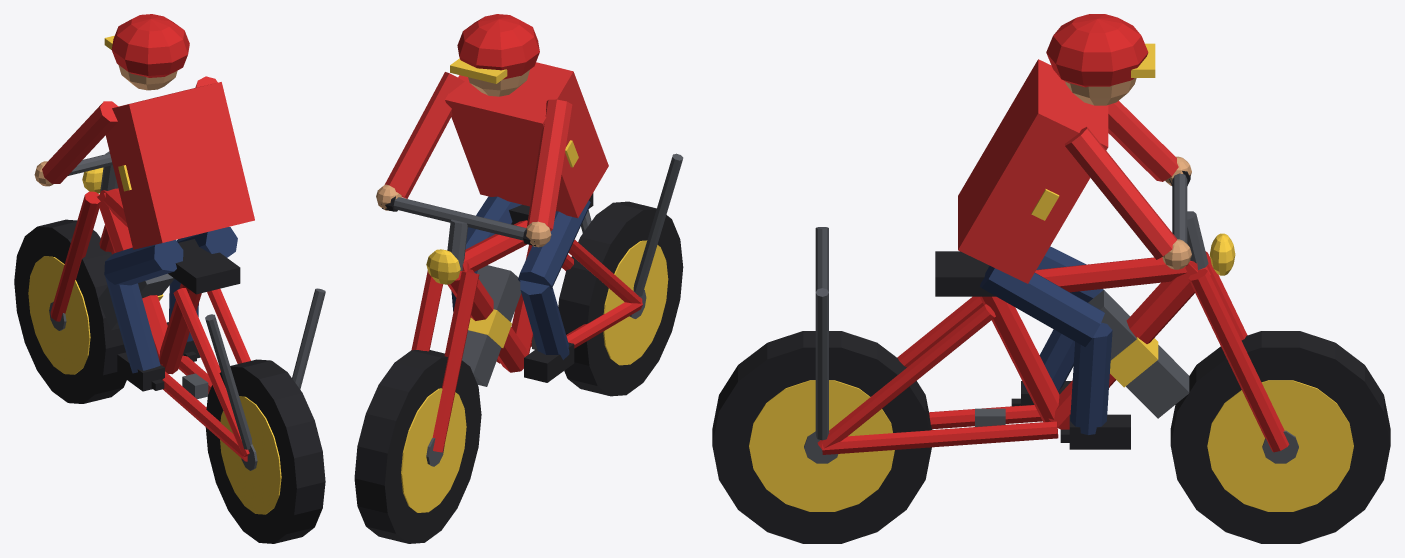
Rendered from bike.glb.
3 views of the same model, side by side, from view 1: azimuth 30°, elevation 25°; view 2: azimuth 150°, elevation 25°; view 3: azimuth 270°, elevation 25° (orthographic). The views are drawn at different scales.
Parts seen in each view (by area): view 1: frame, rider; view 2: frame, rider; view 3: frame, rider.
Boxes of the visible parts, x1=… form: frame: x1=14, y1=151, x2=325, y2=543; rider: x1=34, y1=14, x2=254, y2=391; frame: x1=354, y1=153, x2=683, y2=543; rider: x1=376, y1=14, x2=608, y2=382; frame: x1=712, y1=171, x2=1390, y2=543; rider: x1=958, y1=14, x2=1191, y2=449.
Size of the model in its own units: 0.7351 by 1.87 by 2.22.
